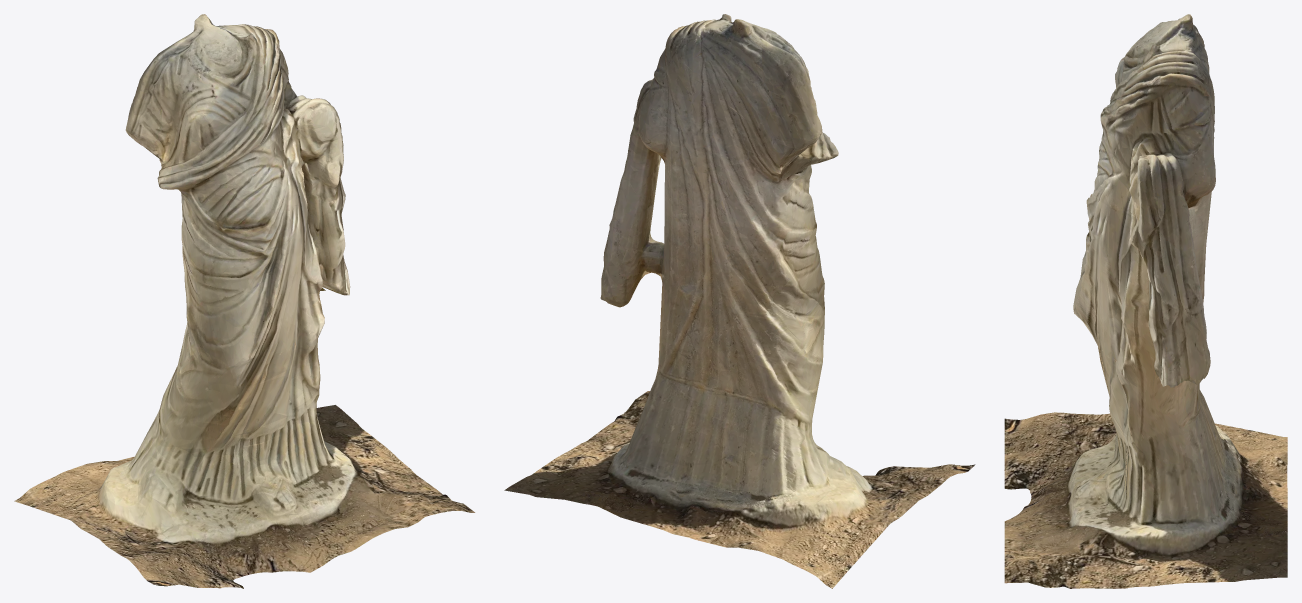
File: roman-togatus-statue-byrsa-hill-cartha.glb
The picture shows the model from 3 angles, left to right: view 1: azimuth 30°, elevation 25°; view 2: azimuth 150°, elevation 25°; view 3: azimuth 270°, elevation 25°; orthographic projection. The views are drawn at different scales.
Parts seen in each view (by area): view 1: Object_2; view 2: Object_2; view 3: Object_2.
Part boxes in pixels (bbox=[...]): Object_2: bbox=[14, 14, 475, 588]; Object_2: bbox=[504, 14, 975, 588]; Object_2: bbox=[1004, 14, 1287, 588].
Size of the model in its own units: 0.5709 by 0.8401 by 0.432.
Materials: 1 (1 with a texture image).
